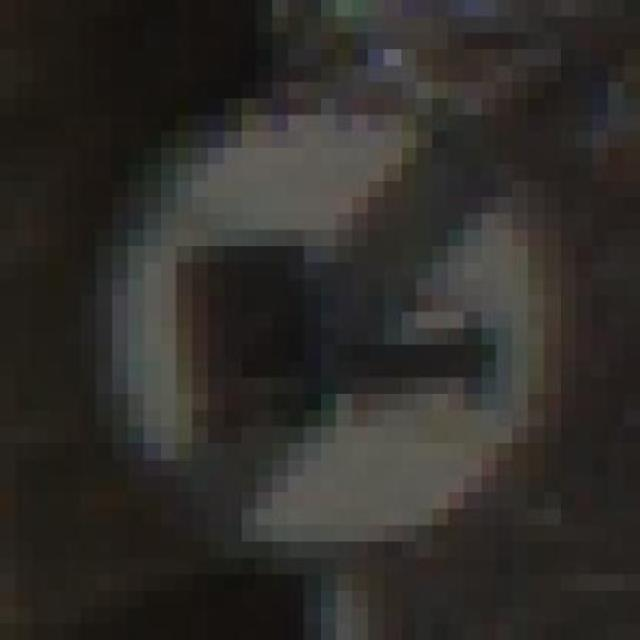Overtaking by trucks is prohibited: (80, 66, 608, 574)
